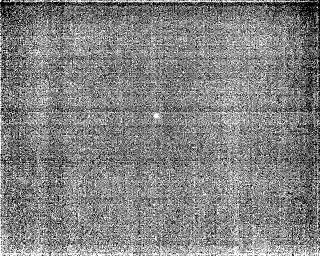BIRD: (152, 110, 163, 123)
